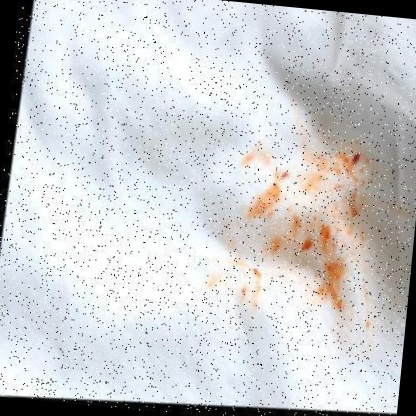kimchi: (196, 109, 416, 327), (307, 247, 349, 313), (317, 212, 340, 250), (347, 140, 374, 171), (296, 226, 317, 260), (246, 263, 261, 281), (277, 170, 292, 182)
